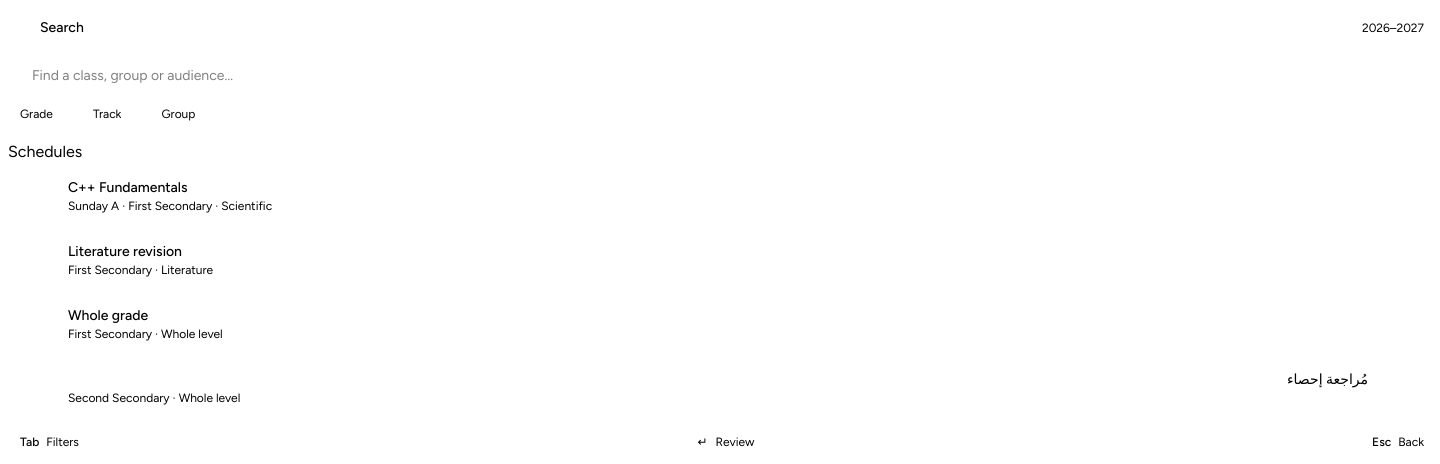
Test: keeps a recoverable empty state when no schedule matches
Type "No such class" into the dropdown named "Search schedules" at (732, 76), box [32,66,1432,86]
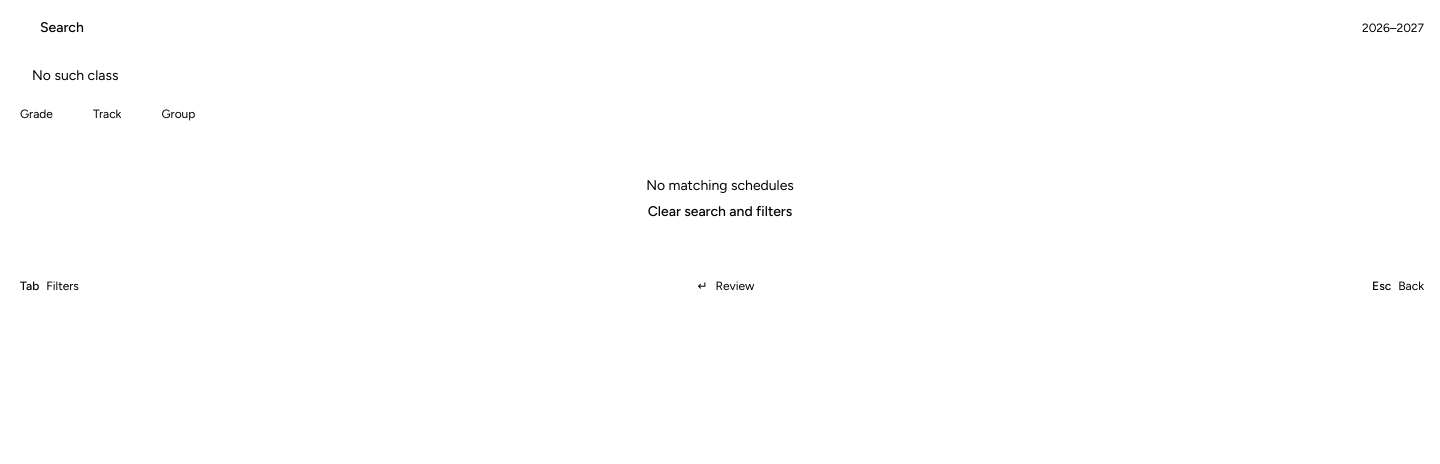
expect the text "No matching schedules" is shown: met, box [646,177,794,194]
Click the button "Clear search and filters" at (720, 212), box [638,196,802,228]
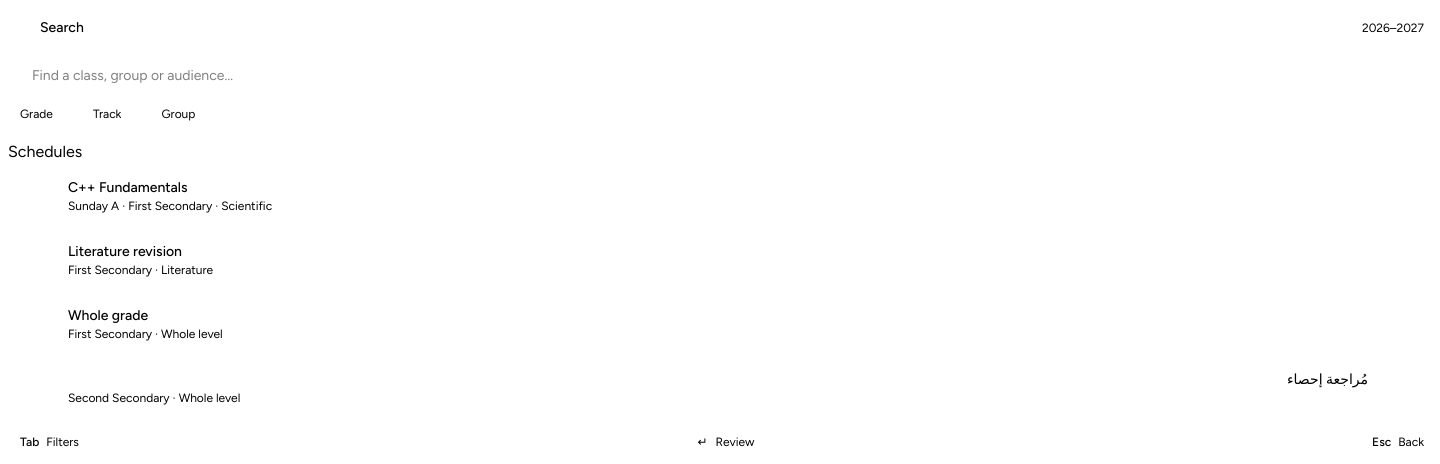
expect the option "C++ Fundamentals Sunday A · First Secondary · Scientific" is shown: met, box [68,179,272,213]
